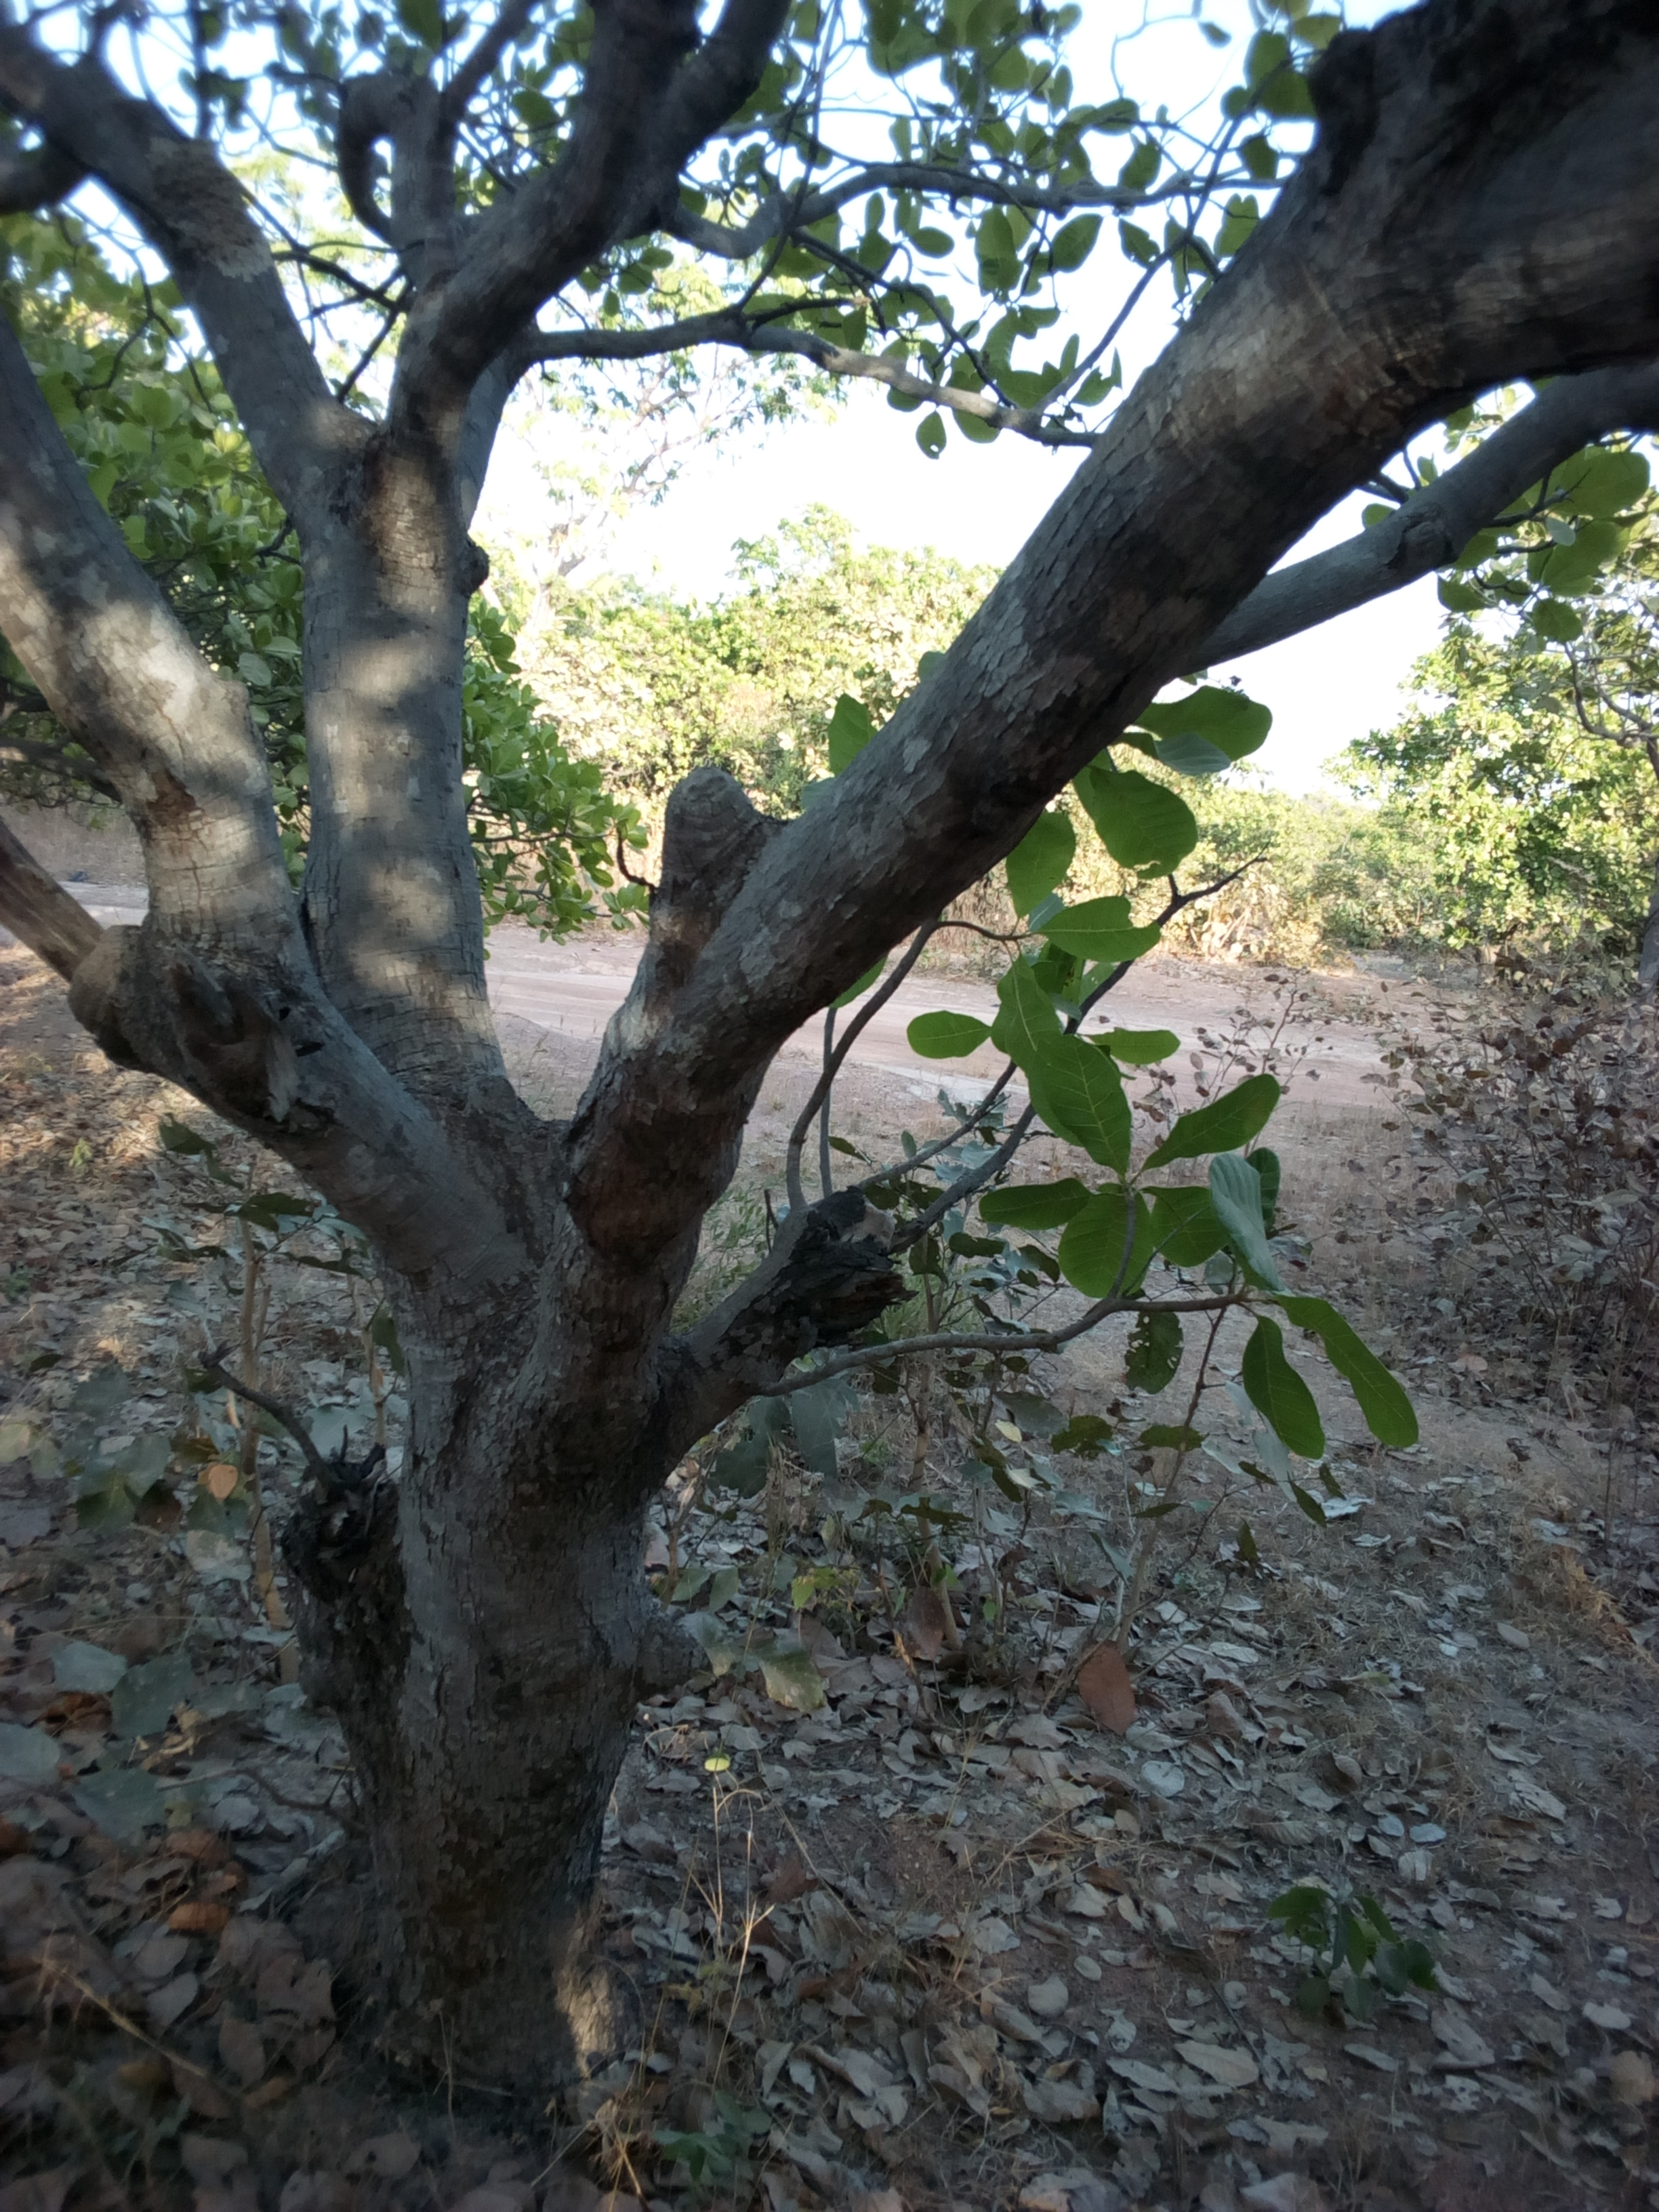Termites: (352, 1425, 622, 2081)
